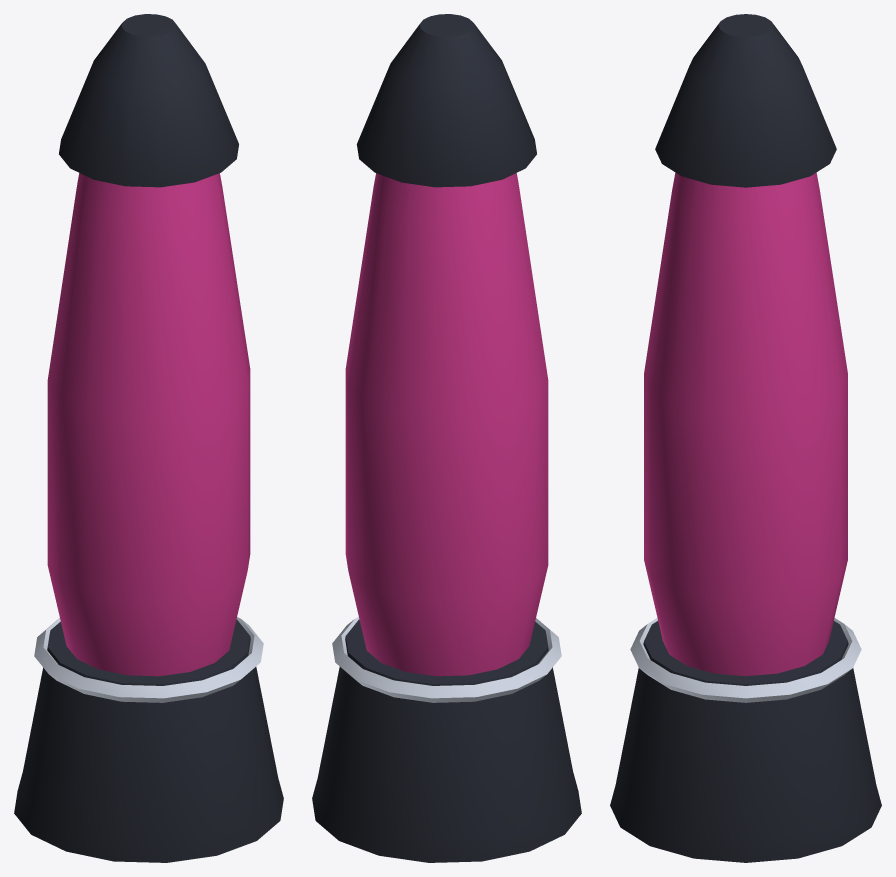
The model's file is SM_Item_LavaLamp.fbx.
3 views of the same model, side by side, from view 1: azimuth 30°, elevation 25°; view 2: azimuth 150°, elevation 25°; view 3: azimuth 270°, elevation 25° (orthographic).
Parts seen in each view (by area): view 1: SM_Item_LavaLamp; view 2: SM_Item_LavaLamp; view 3: SM_Item_LavaLamp.
Part boxes in pixels (x1,y1,x2,y2): SM_Item_LavaLamp: (14,14,283,862); SM_Item_LavaLamp: (312,14,581,862); SM_Item_LavaLamp: (610,14,881,862).
Size of the model in its own units: 24.03 by 76.06 by 24.03.
